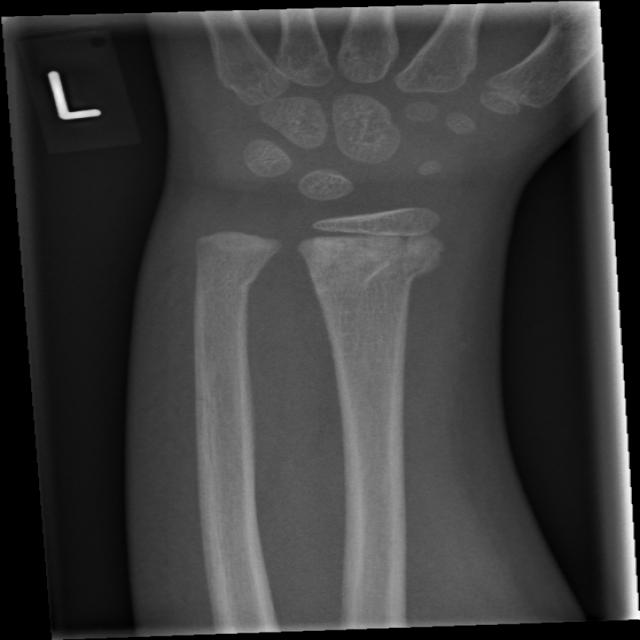radius fracture: (306, 246, 459, 346)
ulna fracture: (187, 229, 293, 350)
